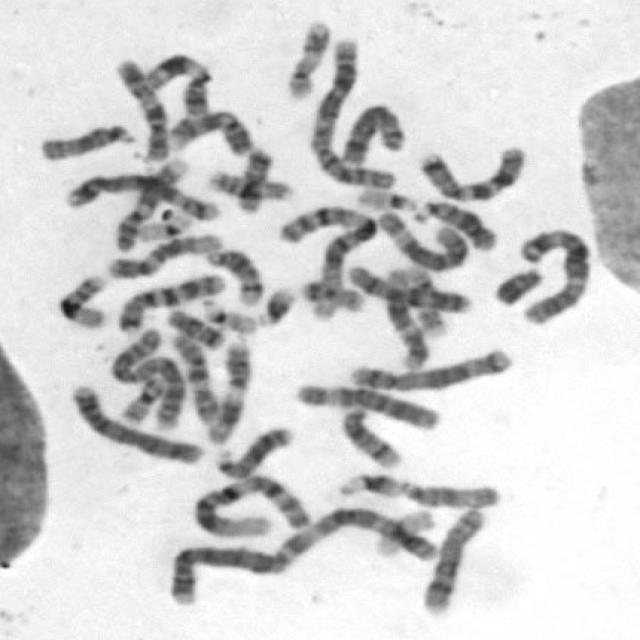A1: (277, 204, 379, 324), (192, 473, 313, 539)
A2: (306, 36, 398, 190), (107, 327, 186, 432)
A3: (262, 505, 439, 576), (518, 227, 592, 327)
B4: (70, 384, 205, 465), (168, 544, 276, 606)
B5: (64, 172, 220, 223), (348, 347, 514, 394)
C10: (113, 58, 170, 163), (171, 334, 220, 425)
C11: (204, 337, 253, 445), (142, 51, 214, 116)
C12: (106, 233, 223, 279), (386, 268, 432, 371)
C6: (293, 384, 441, 432), (375, 211, 469, 273)
C7: (118, 273, 228, 334), (418, 146, 526, 202)
C8: (423, 508, 485, 615), (339, 103, 406, 170)
C9: (113, 158, 189, 254), (165, 107, 255, 157)
D13: (409, 198, 497, 252), (214, 425, 295, 478)
D14: (339, 408, 405, 470), (202, 248, 265, 306)
D15: (39, 123, 135, 161), (397, 479, 503, 509)
E16: (56, 273, 108, 331), (205, 171, 295, 204)
E17: (286, 20, 332, 99), (403, 264, 448, 338)
E18: (164, 308, 226, 350), (237, 150, 274, 215)
F19: (374, 508, 439, 558), (134, 211, 193, 244)
F20: (298, 279, 366, 314), (119, 378, 168, 424)
G21: (336, 472, 401, 499), (258, 287, 298, 328)
G22: (199, 298, 259, 336), (354, 189, 420, 211)
X: (346, 262, 474, 316), (493, 266, 546, 306)
